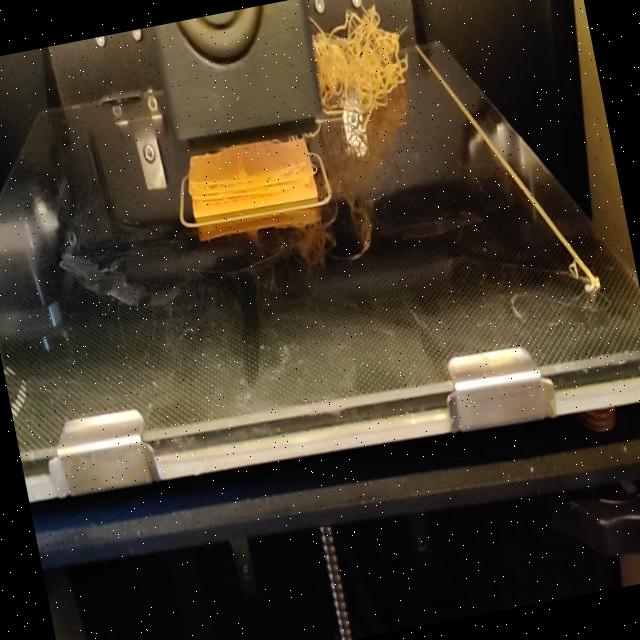spaghetti: (306, 0, 423, 147)
